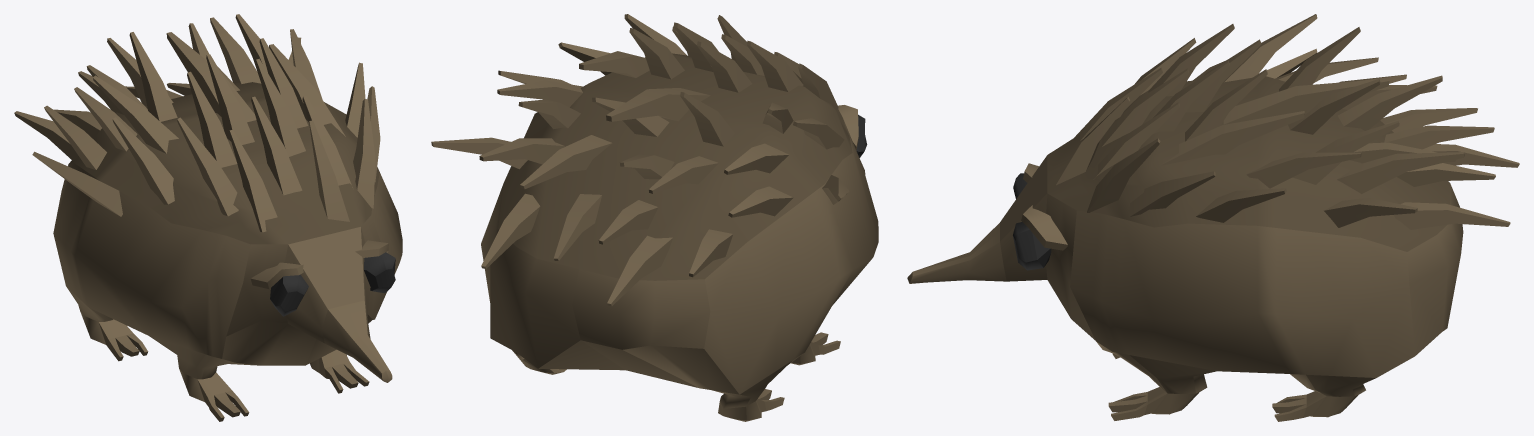
The model's file is BigEchidna.fbx.
3 views of the same model, side by side, from view 1: azimuth 30°, elevation 25°; view 2: azimuth 150°, elevation 25°; view 3: azimuth 270°, elevation 25° (orthographic). The views are drawn at different scales.
Visible parts, largest first — view 1: polySurface23; view 2: polySurface23; view 3: polySurface23.
Boxes of the visible parts, left/top/right/bottom form: polySurface23: left=14, top=14, right=402, bottom=421; polySurface23: left=431, top=14, right=878, bottom=421; polySurface23: left=907, top=14, right=1519, bottom=421.
Size of the model in its own units: 7.78 by 7.08 by 11.79.
